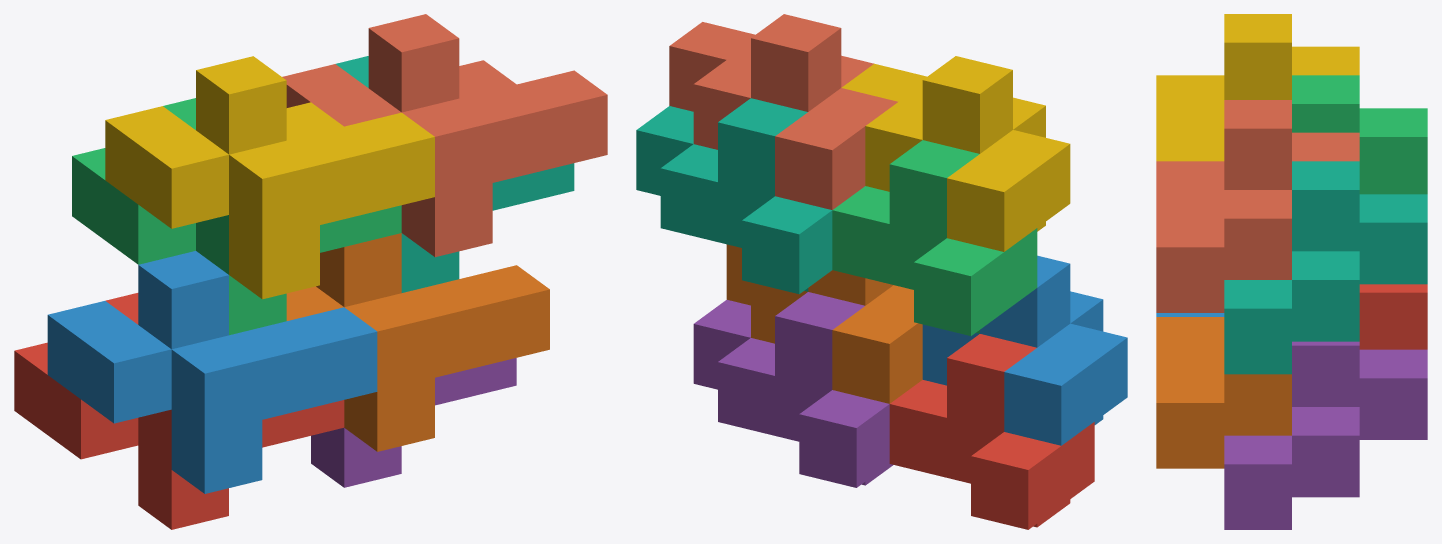
File: tiling.obj
The picture shows the model from 3 angles, left to right: view 1: azimuth 30°, elevation 25°; view 2: azimuth 150°, elevation 25°; view 3: azimuth 270°, elevation 25°; orthographic projection. The views are drawn at different scales.
Visible parts, largest first — view 1: copy_1_domain_4, copy_1_domain_2, copy_1_domain_8, copy_1_domain_6, copy_1_domain_1, copy_1_domain_3, copy_1_domain_5, copy_1_domain_7; view 2: copy_1_domain_4, copy_1_domain_8, copy_1_domain_5, copy_1_domain_7, copy_1_domain_1, copy_1_domain_3, copy_1_domain_2, copy_1_domain_6; view 3: copy_1_domain_7, copy_1_domain_8, copy_1_domain_5, copy_1_domain_6, copy_1_domain_4, copy_1_domain_3, copy_1_domain_1.
Boxes of the visible parts, <box> form: copy_1_domain_4: <box>105,56,434,299</box>; copy_1_domain_2: <box>47,251,377,493</box>; copy_1_domain_8: <box>282,14,607,257</box>; copy_1_domain_6: <box>286,233,549,451</box>; copy_1_domain_1: <box>14,293,344,529</box>; copy_1_domain_3: <box>72,98,401,335</box>; copy_1_domain_5: <box>311,358,516,487</box>; copy_1_domain_7: <box>336,56,574,292</box>; copy_1_domain_4: <box>841,56,1070,251</box>; copy_1_domain_8: <box>669,14,897,209</box>; copy_1_domain_5: <box>693,292,893,487</box>; copy_1_domain_7: <box>636,98,832,294</box>; copy_1_domain_1: <box>889,334,1094,529</box>; copy_1_domain_3: <box>832,140,1037,335</box>; copy_1_domain_2: <box>922,255,1127,445</box>; copy_1_domain_6: <box>726,244,922,403</box>; copy_1_domain_7: <box>1224,161,1427,374</box>; copy_1_domain_8: <box>1156,100,1359,312</box>; copy_1_domain_5: <box>1224,341,1427,529</box>; copy_1_domain_6: <box>1156,317,1291,468</box>; copy_1_domain_4: <box>1156,14,1359,161</box>; copy_1_domain_3: <box>1292,75,1427,194</box>; copy_1_domain_1: <box>1359,284,1427,349</box>.
Size of the model in its own units: 8 by 7 by 4.
